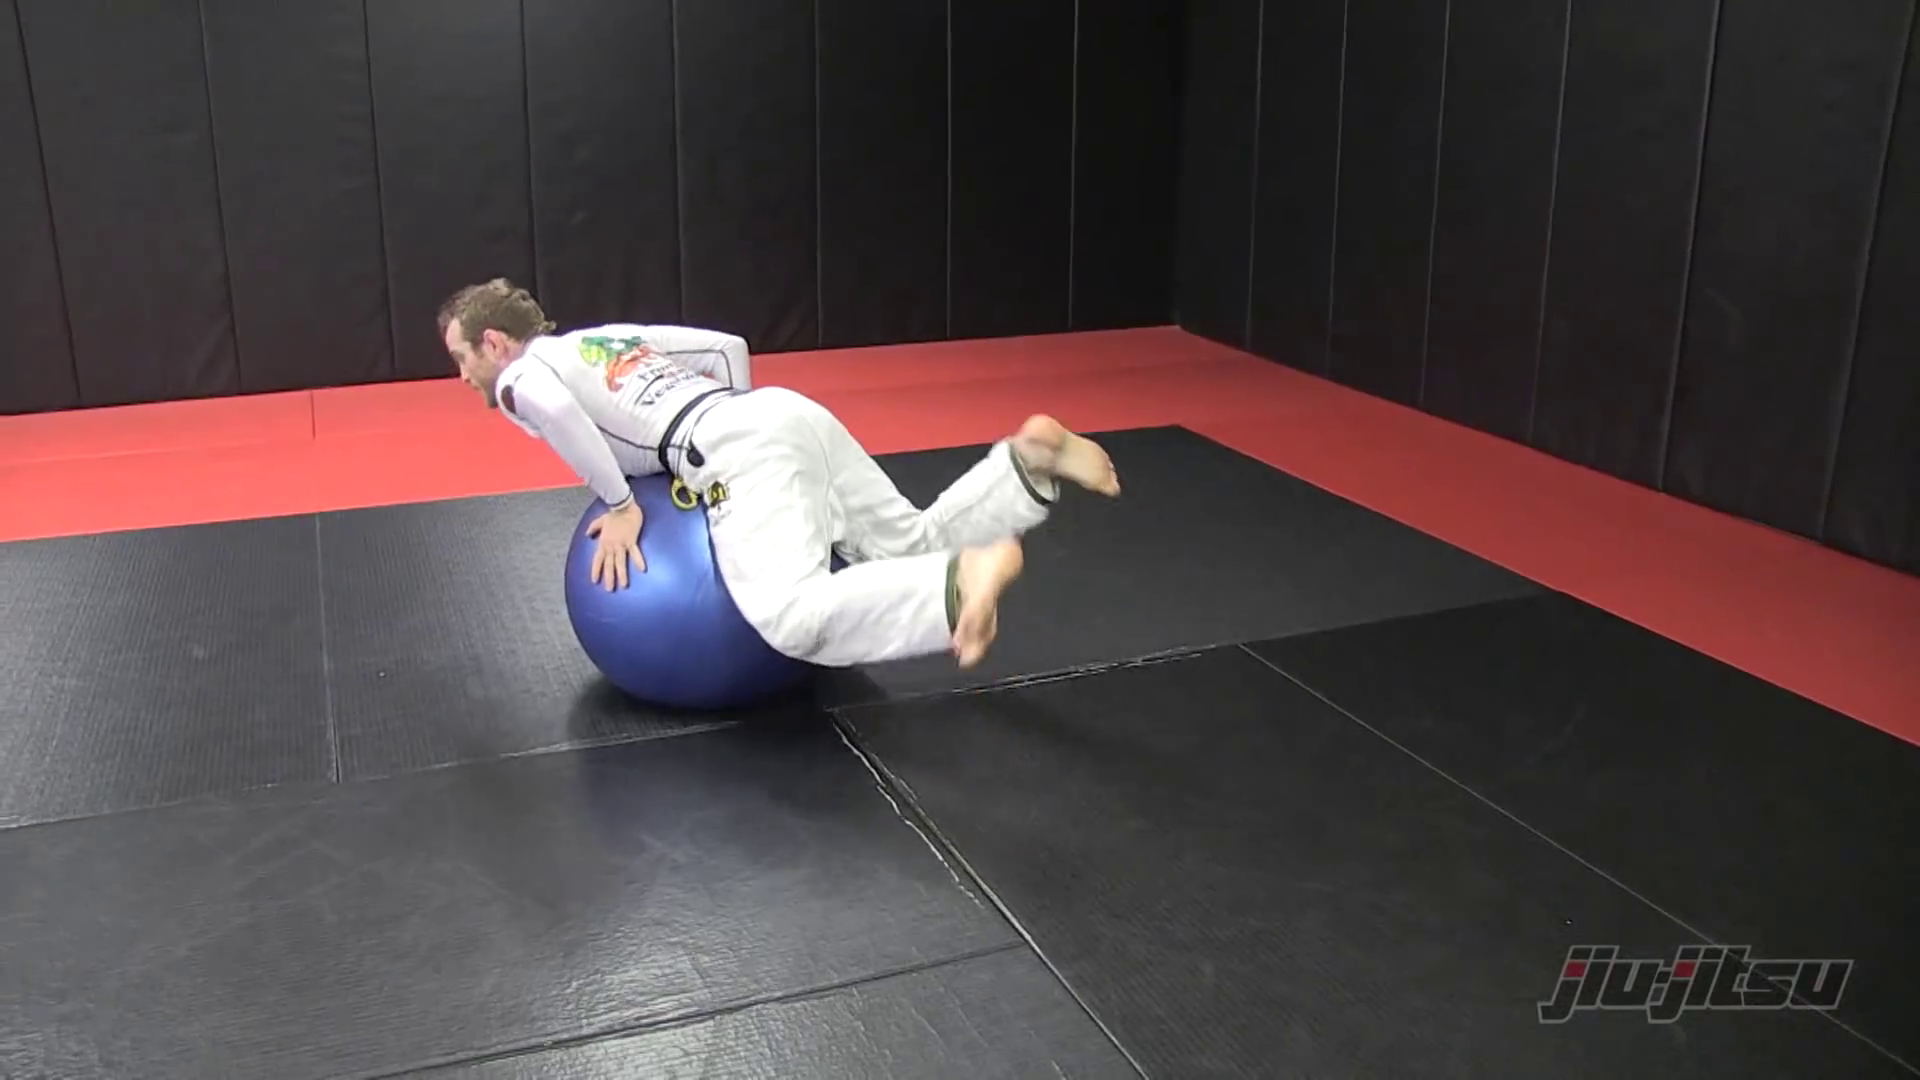yogaball: (554, 477, 851, 738)
